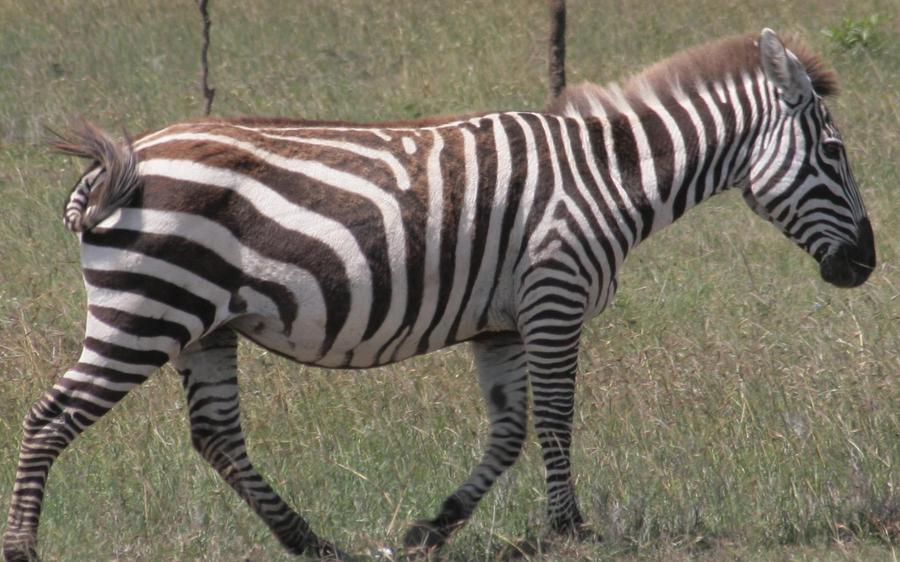zebra_plains: (96, 84, 633, 377)
